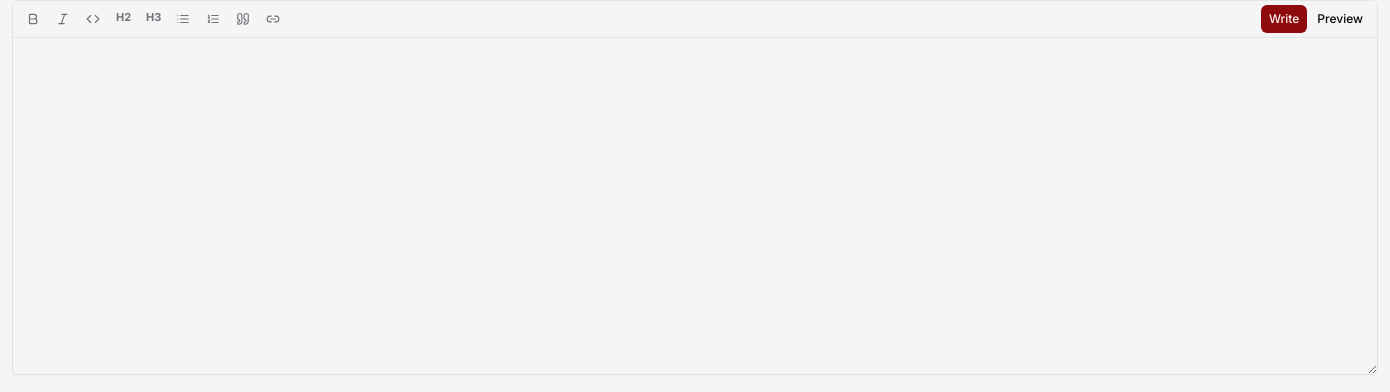
Scenario: the box › says there is nothing to preview rather than drawing an empty box
Click the button with test id "markdown-tab-preview" at (1340, 19), box [1309,5,1371,33]
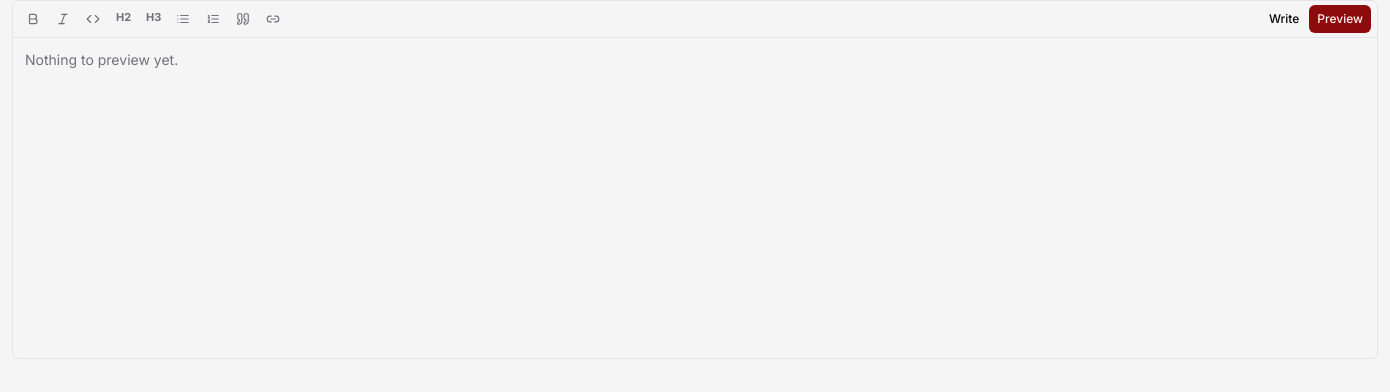
Expected: the element with test id "markdown-preview" shows "Nothing to preview yet", [25,51,178,68]
